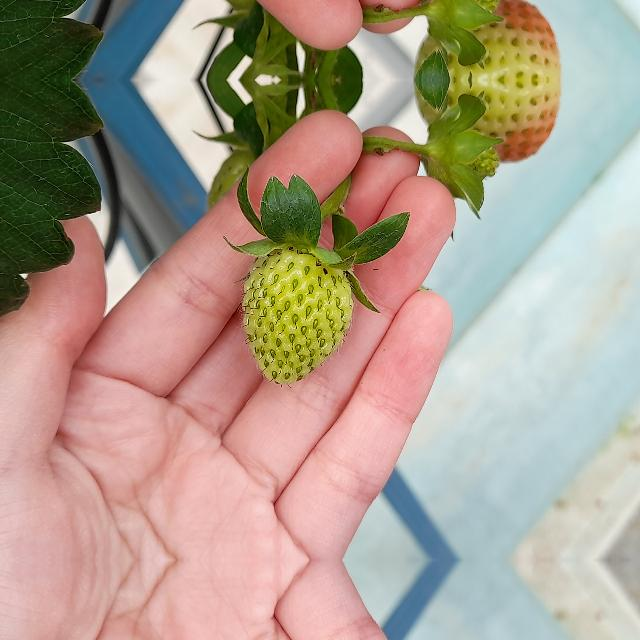Health_25: (243, 246, 353, 384)
Health_75: (409, 80, 561, 166), (409, 0, 561, 80)
